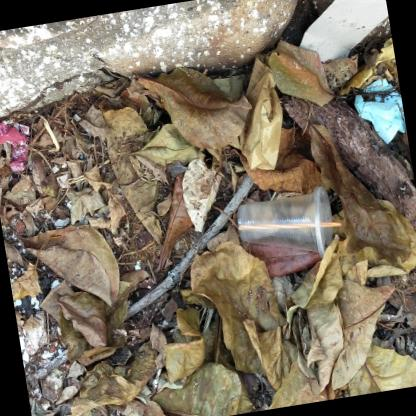Paper: (229, 58, 281, 169), (298, 0, 387, 61), (353, 77, 405, 143), (0, 119, 28, 171), (381, 67, 392, 81)
Plastic: (236, 186, 331, 258), (312, 186, 331, 258), (237, 222, 340, 229)
